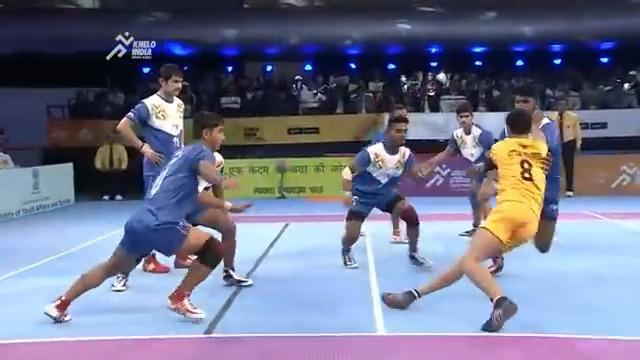Player: (43, 109, 231, 324), (465, 83, 562, 275), (110, 62, 190, 292), (339, 112, 433, 270), (417, 101, 496, 237)
Raider: (381, 105, 556, 332)
referee: (552, 96, 582, 197), (93, 131, 128, 201)
